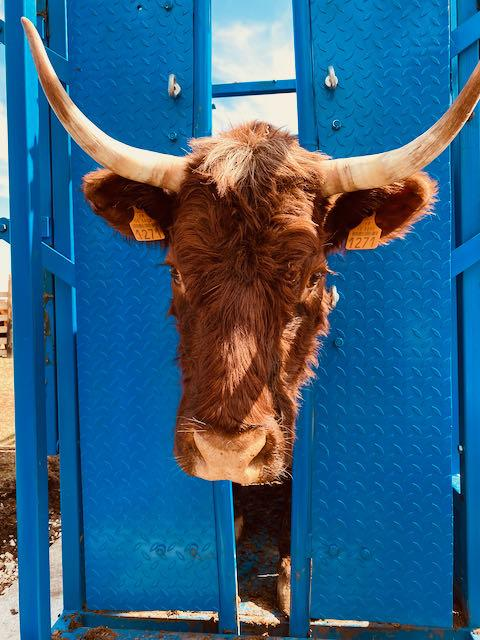muzzles: (164, 417, 302, 492)
